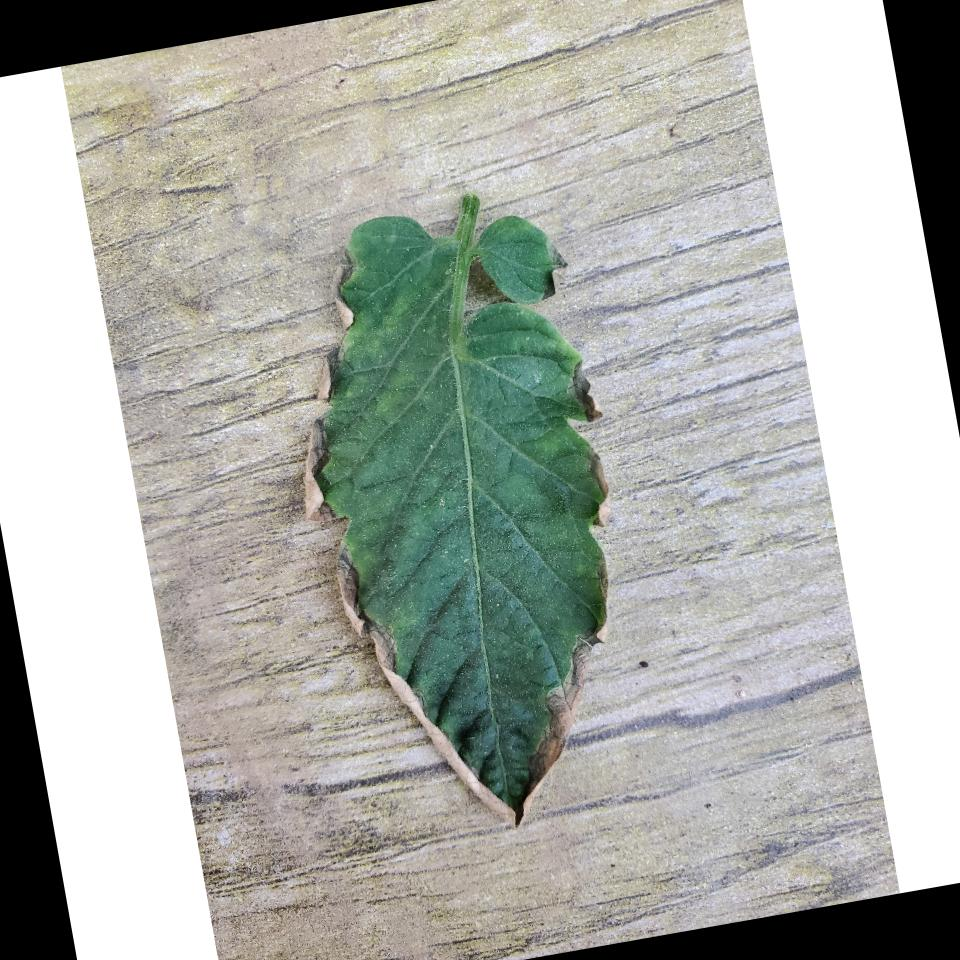tomato_bacterial_blight: (237, 145, 688, 870)
